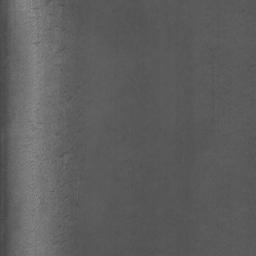Silk spot: (55, 161, 80, 221), (53, 122, 84, 158), (50, 223, 74, 253), (58, 0, 84, 26), (60, 77, 81, 102), (56, 25, 80, 40), (54, 40, 70, 57), (45, 0, 55, 16)
